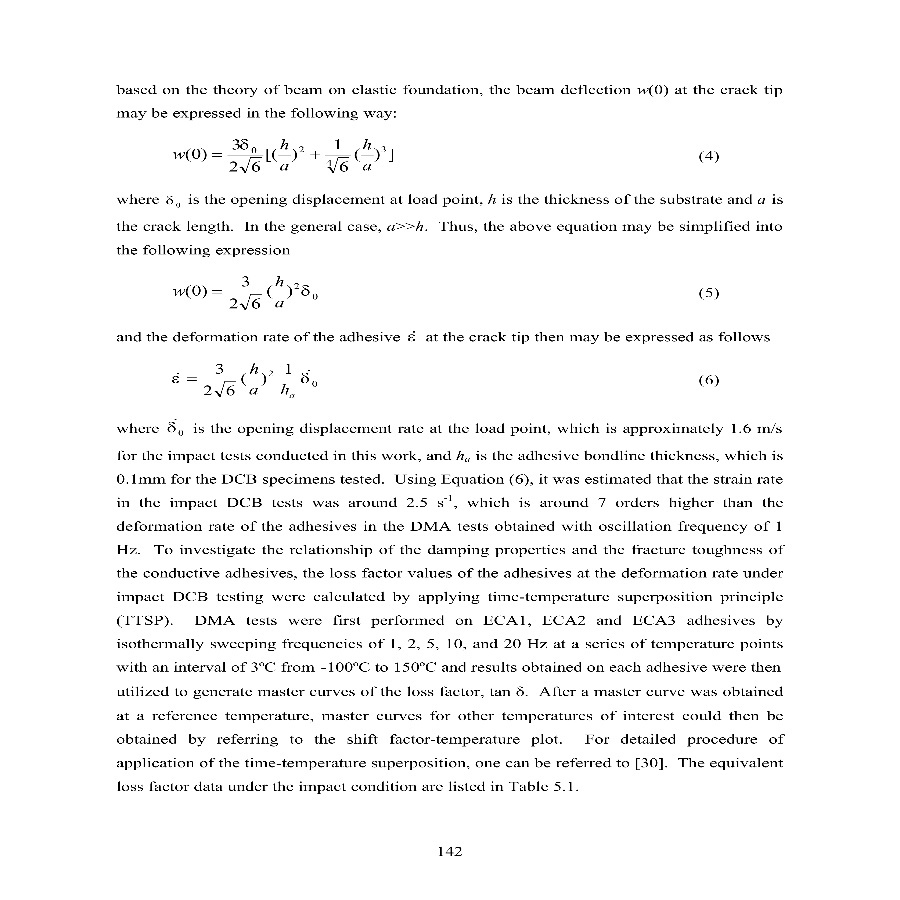eq: (171, 135, 398, 176), (168, 359, 322, 405), (170, 272, 318, 315)
